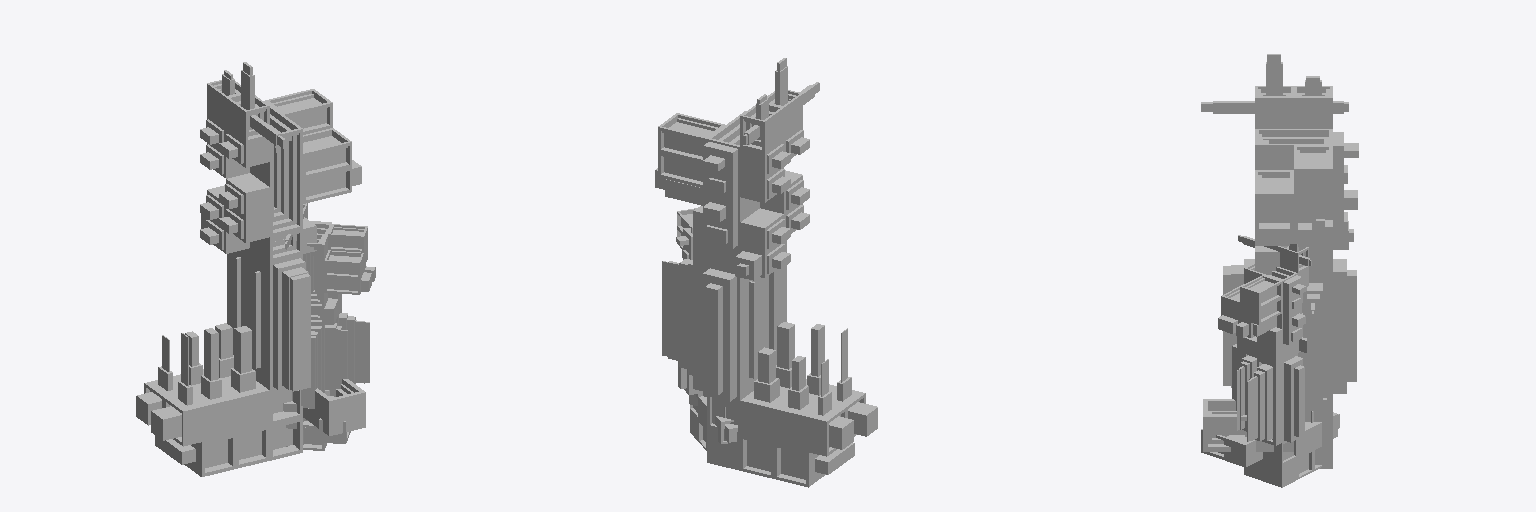
File: City2.obj
3 renders of one model, left to right at view 1: azimuth 30°, elevation 25°; view 2: azimuth 150°, elevation 25°; view 3: azimuth 270°, elevation 25°, orthographic.
Visible parts, largest first — view 1: city_3dprint_2; view 2: city_3dprint_2; view 3: city_3dprint_2.
Part boxes in pixels (x1,y1,x2,y2): city_3dprint_2: (136,62,375,476); city_3dprint_2: (655,58,877,487); city_3dprint_2: (1201,54,1358,487).
Bounding box in the file's own units: 892 × 1641 × 602.